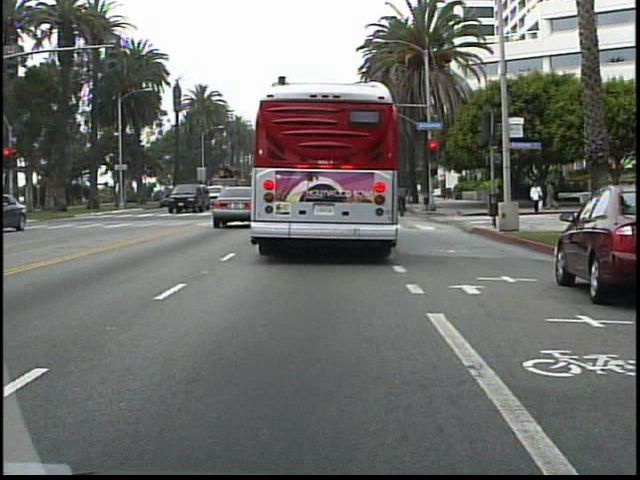person: (599, 172, 620, 227), (527, 180, 547, 217), (397, 181, 414, 216), (544, 179, 561, 213)
